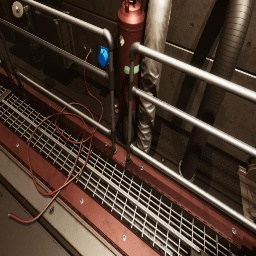NitrogenTank ,: (117, 0, 145, 139)
